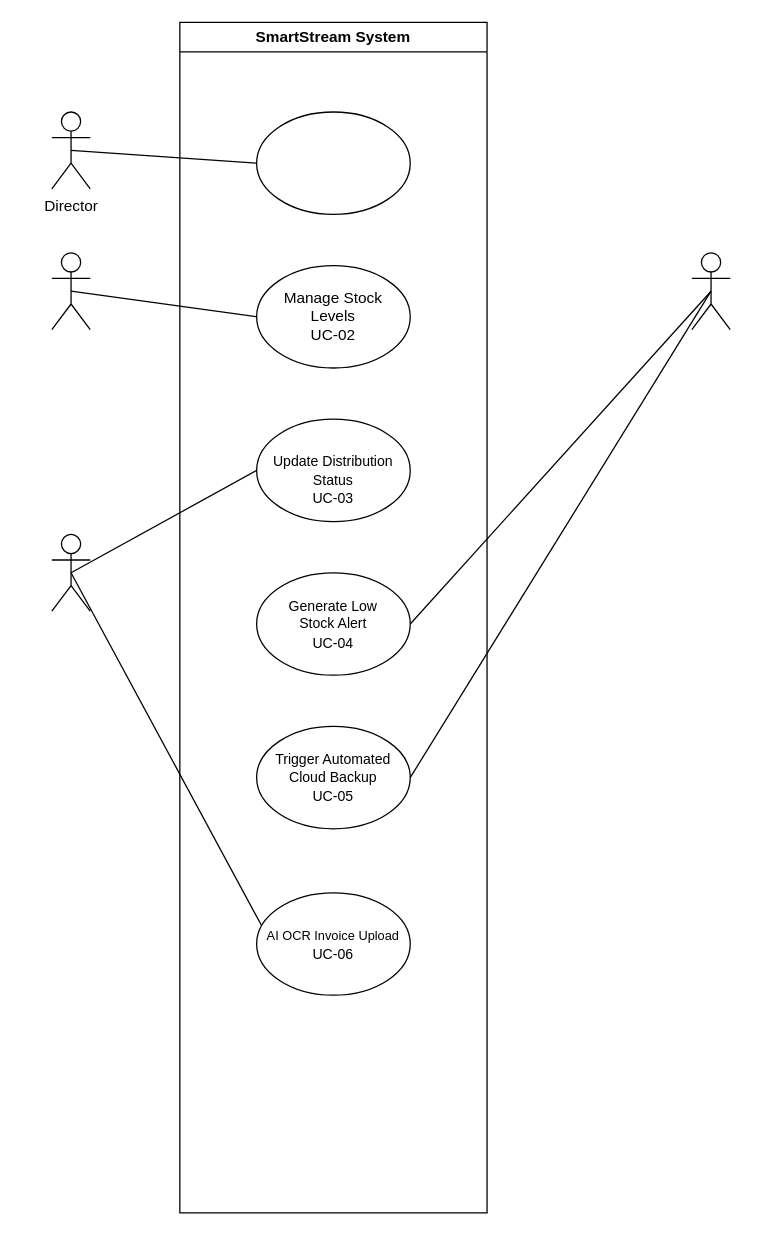
Some shapes in this 759 by 1235 pixel diagram are drawn without their labels. The centre of each missing label's shape, as x and y in pixels:
"Distributor" goes at point 70,572.
"Inventory Staff" goes at point 70,291.
"System" goes at point 710,291.
"View Executive Dashboard UC-01" goes at point 332,162.
